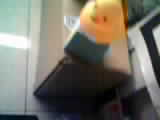duck: (74, 4, 127, 42)
